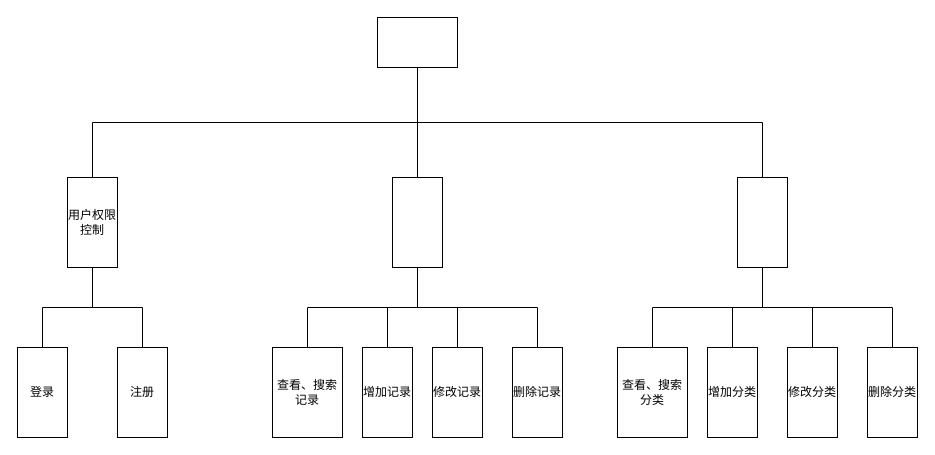
This 935x455 diagram has some shape labels left out. Here are the shapes that lost their labels. From the top down, the box of each, then its label:
(376, 16, 458, 68): 记账通APP
(392, 176, 442, 268): 收支记录管理
(736, 176, 788, 268): 分类管理
